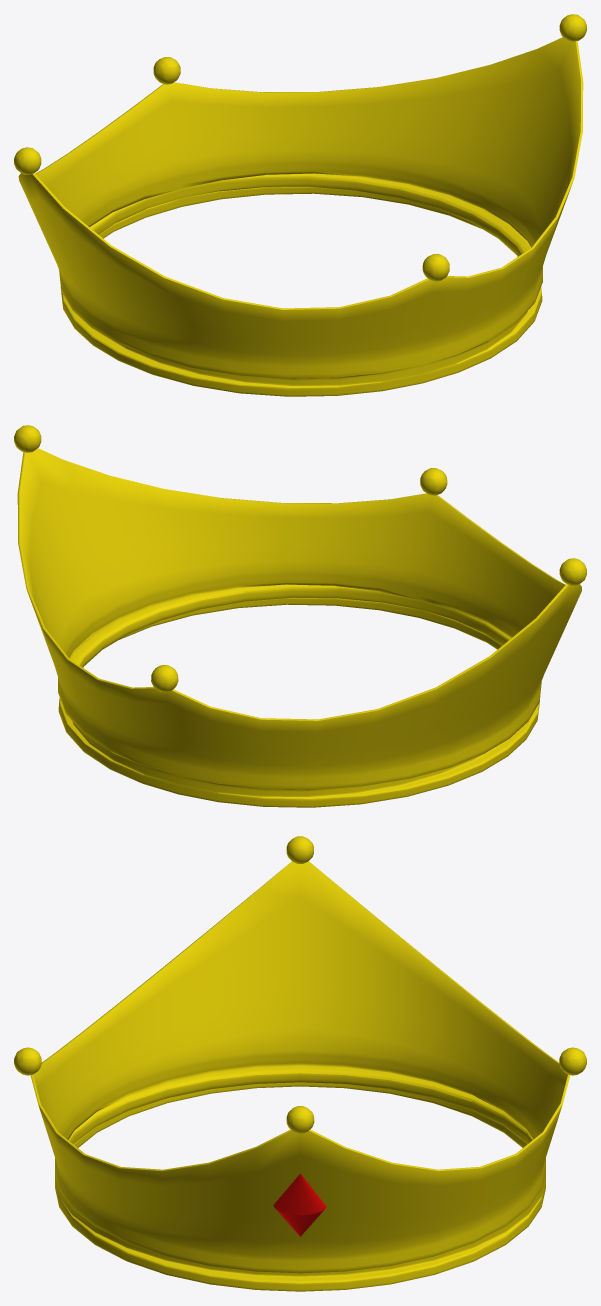
The picture shows the model from 3 angles, top to bottom: view 1: azimuth 30°, elevation 25°; view 2: azimuth 150°, elevation 25°; view 3: azimuth 270°, elevation 25°; orthographic projection.
Parts seen in each view (by area): view 1: SurfCylinder, Mball; view 2: SurfCylinder, Mball; view 3: SurfCylinder, Mball, 원뿔.001.
Boxes of the visible parts, box(x1,y1,x2,y2) form: SurfCylinder: box(18, 37, 583, 396); Mball: box(14, 14, 586, 281); SurfCylinder: box(17, 448, 581, 807); Mball: box(14, 425, 586, 692); SurfCylinder: box(30, 861, 570, 1291); Mball: box(14, 836, 586, 1133); 원뿔.001: box(273, 1173, 326, 1236).
Size of the model in its own units: 271 by 96.95 by 234.
